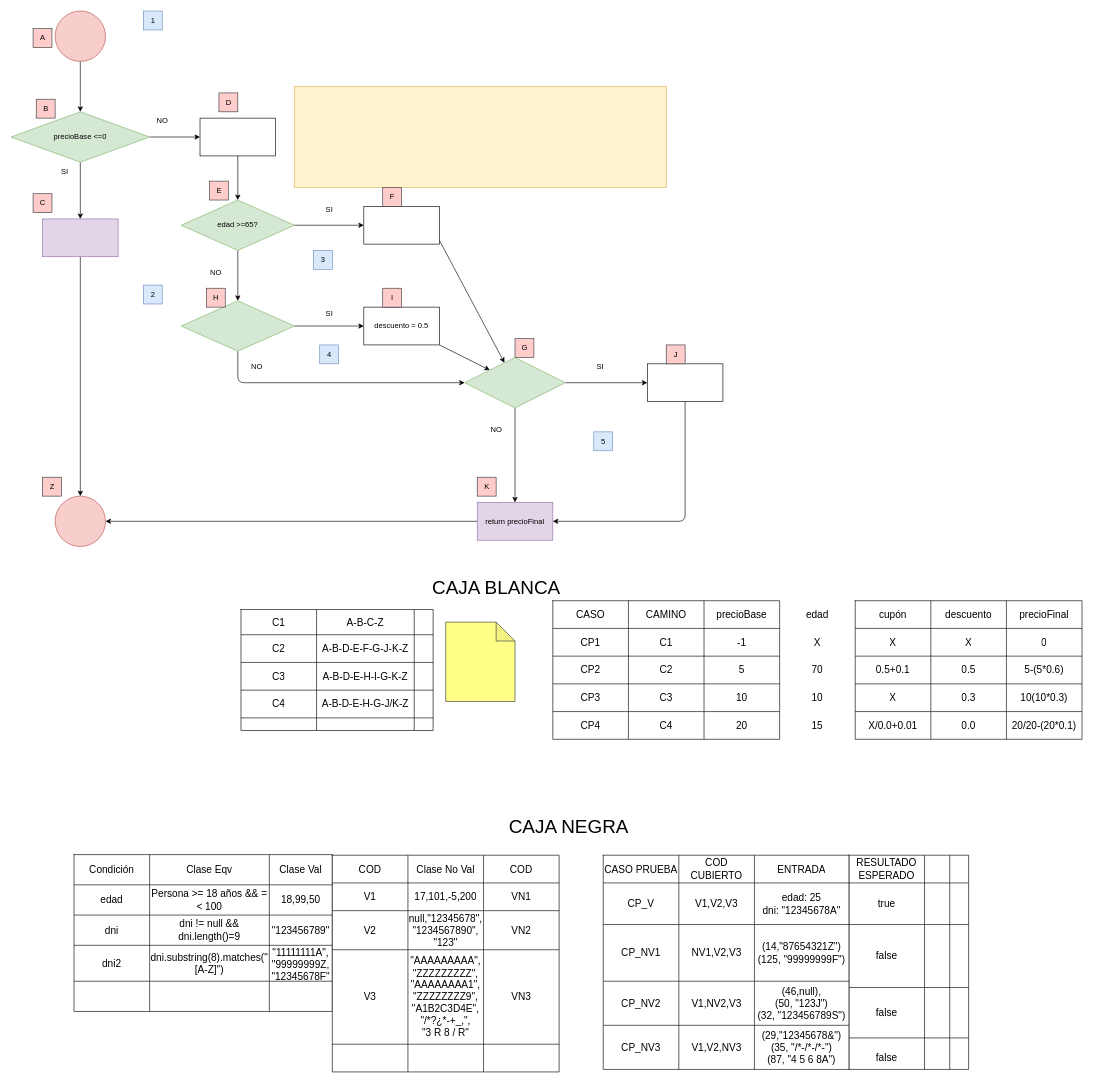
Image size: 1093x1083. Some labels were removed from this diagram. The centre of each missing label's shape, as x and y in pixels:
descuento = 0: the point at 237,136
descuento = 0.3: the point at 401,225
descuento+=0.1: the point at 685,382
edad <=12?: the point at 237,325
En caso de redundancia, puedo usar la /?: the point at 480,661
FIN: the point at 80,521
INICIO: the point at 80,35
return 0: the point at 80,237
tieneCupon?: the point at 514,382
V(G)= C+1=4+1=5 V(G) = R = 5 V(G) = (A - N) + 2= (15-12)+2=5: the point at 480,136
